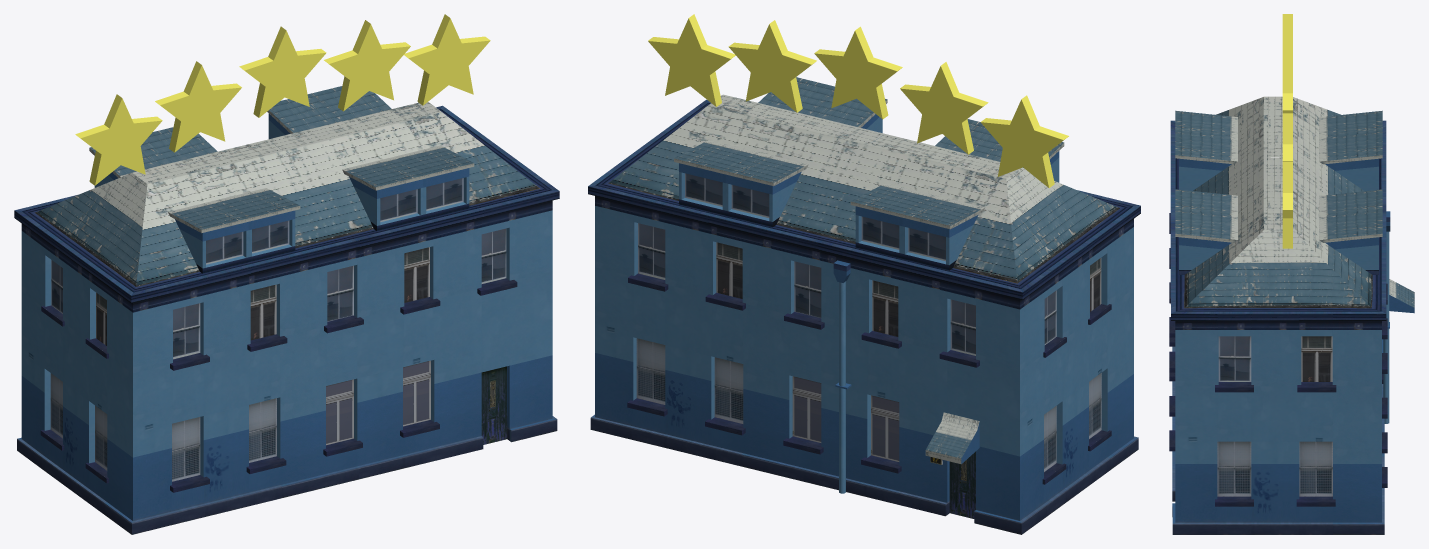
File: 五星级酒店.gltf
3 views of the same model, side by side, from view 1: azimuth 30°, elevation 25°; view 2: azimuth 150°, elevation 25°; view 3: azimuth 270°, elevation 25° (orthographic). The views are drawn at different scales.
Visible parts, largest first — view 1: node__-14222, node_star (5)_-14238, node_star (4)_-14236, node_star (2)_-14232, node_star (1)_-14230, node_star (3)_-14234; view 2: node__-14222, node_star (4)_-14236, node_star (1)_-14230, node_star (2)_-14232, node_star (3)_-14234, node_star (5)_-14238; view 3: node__-14222, node_star (5)_-14238, node_star (1)_-14230, node_star (3)_-14234.
Part boxes in pixels (x1,y1,x2,y2): node__-14222: (14,86,559,534); node_star (5)_-14238: (404,14,490,105); node_star (4)_-14236: (75,94,162,185); node_star (2)_-14232: (155,61,241,152); node_star (1)_-14230: (239,26,326,117); node_star (3)_-14234: (324,20,410,111); node__-14222: (588,77,1140,534); node_star (4)_-14236: (980,95,1068,187); node_star (1)_-14230: (814,26,902,119); node_star (2)_-14232: (900,62,988,154); node_star (3)_-14234: (728,20,816,112); node_star (5)_-14238: (648,14,735,106); node__-14222: (1169,96,1414,534); node_star (5)_-14238: (1282,162,1292,248); node_star (1)_-14230: (1282,62,1292,113); node_star (3)_-14234: (1282,113,1292,161).
Size of the model in its own units: 10.56 by 9.58 by 5.64.
